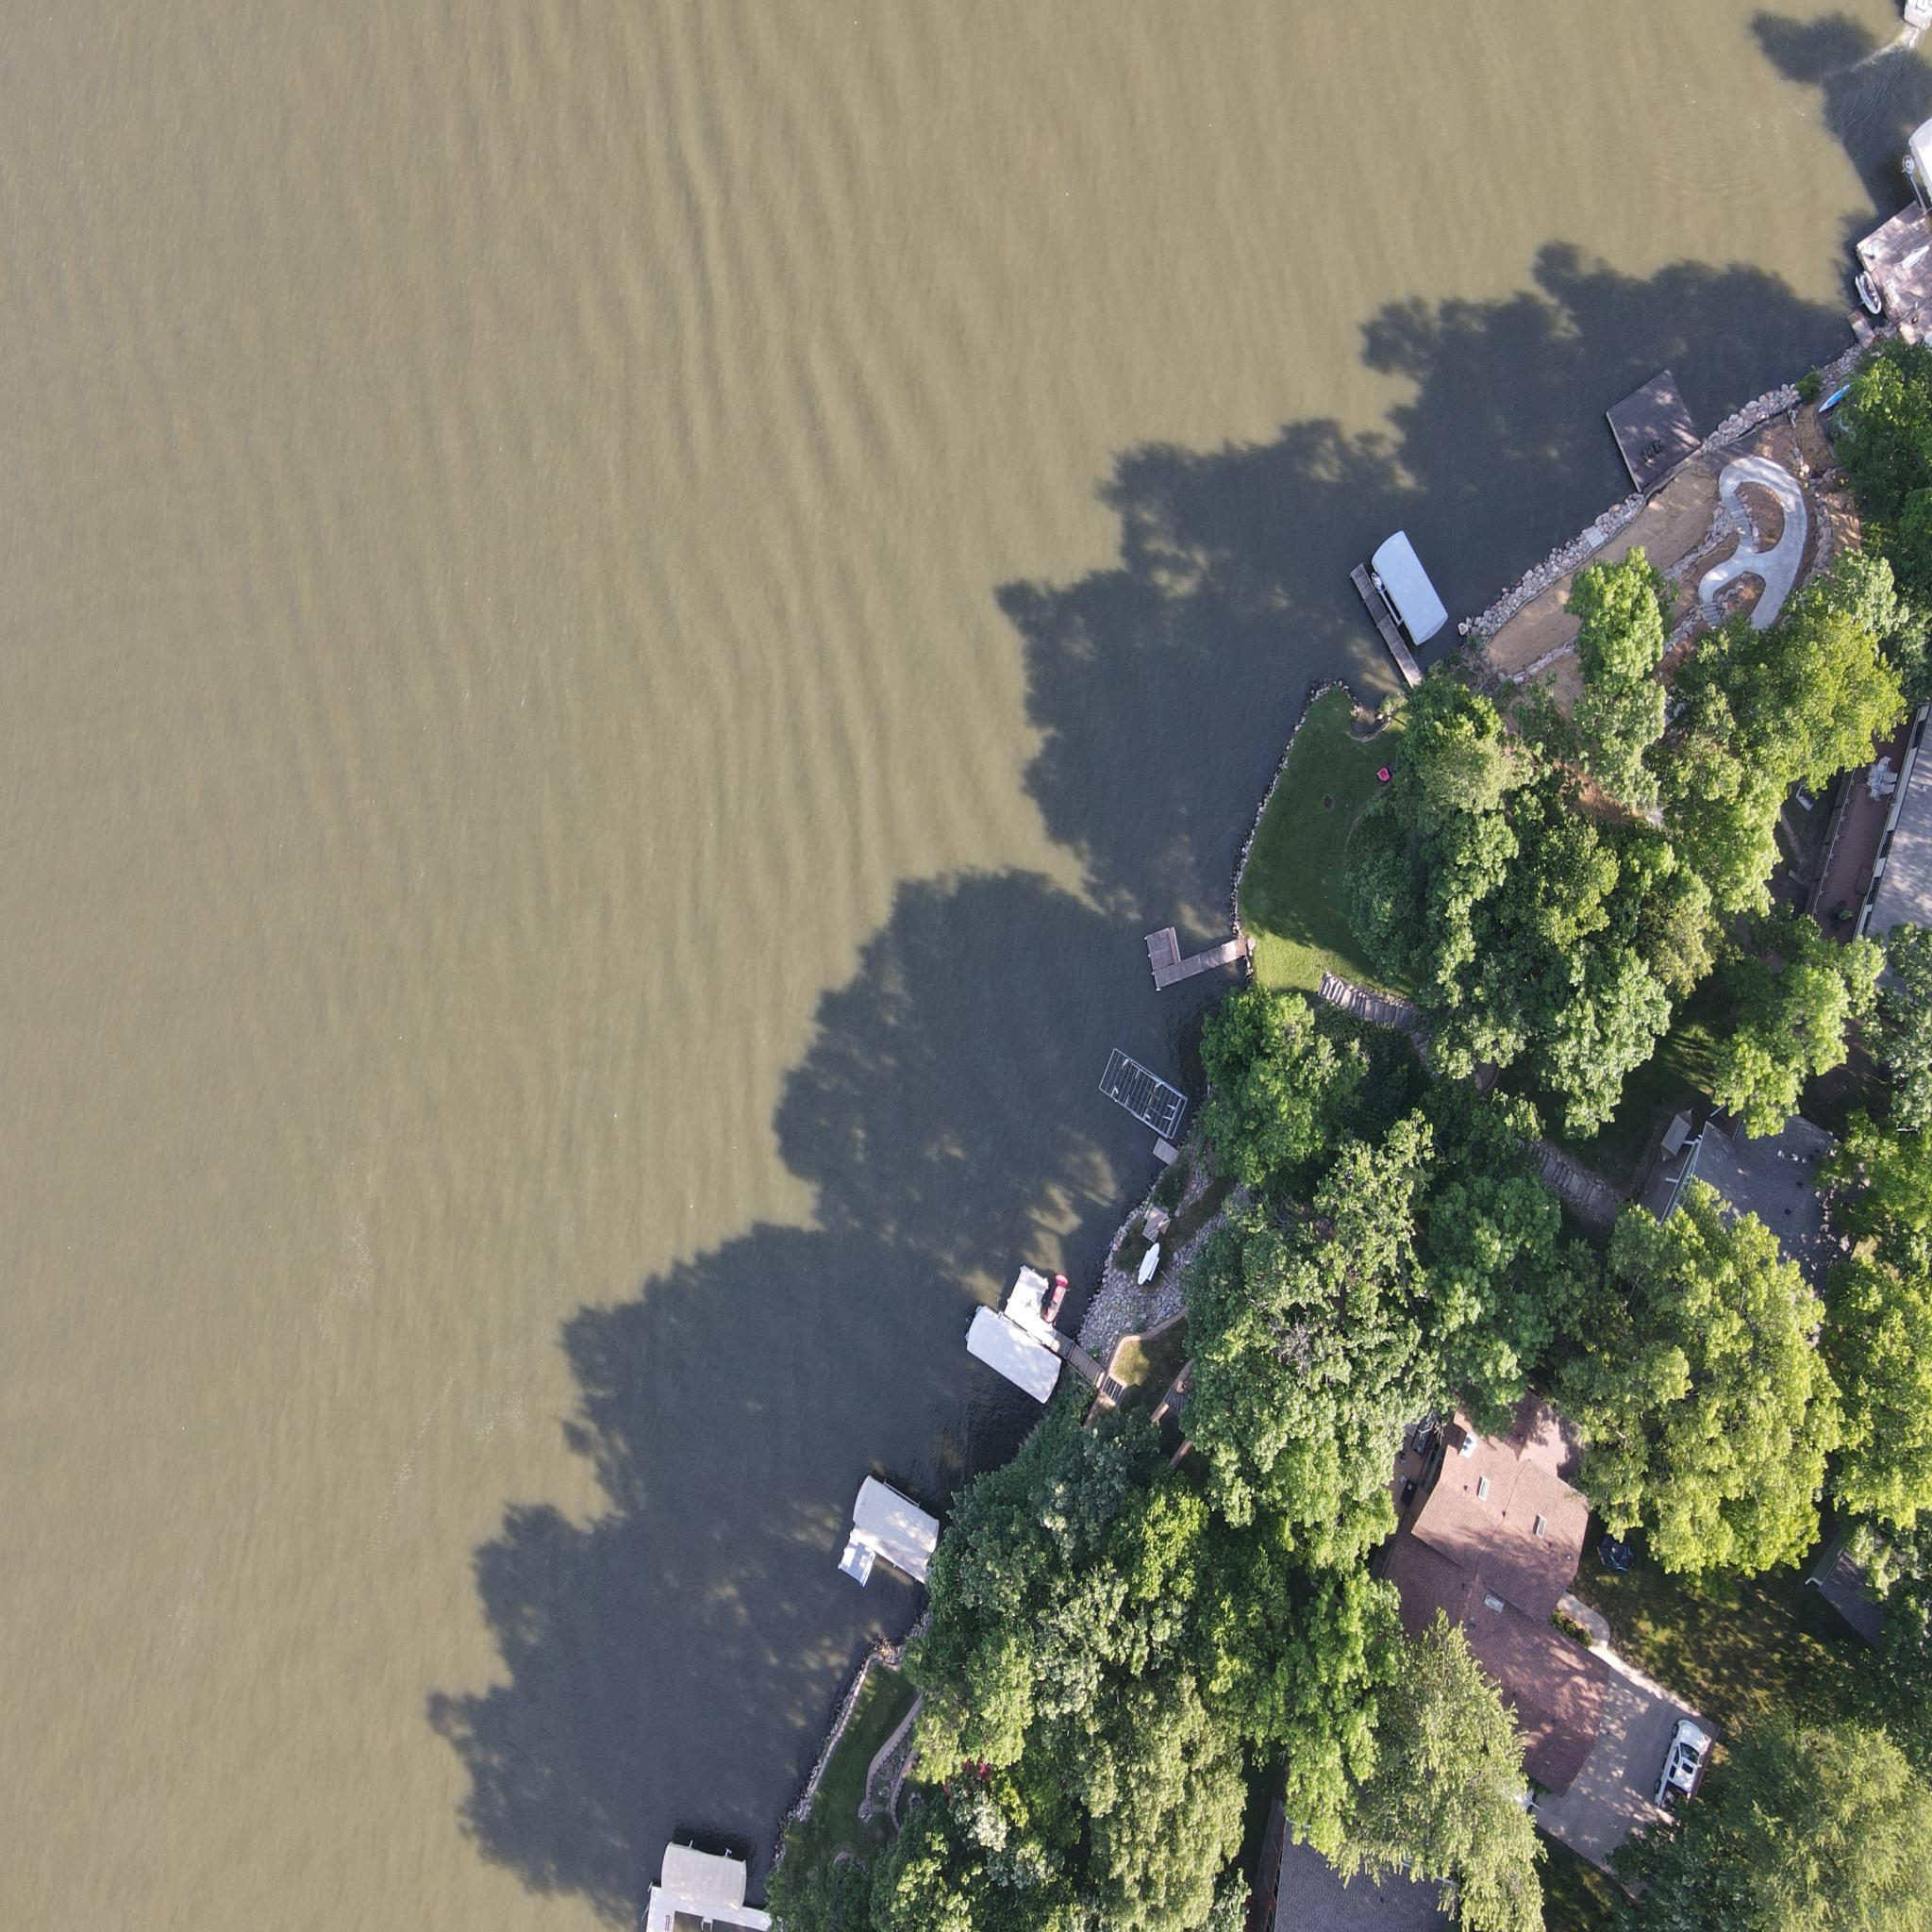car: (1661, 1707, 1714, 1828)
dock: (1350, 557, 1440, 722), (1610, 364, 1711, 508), (1131, 920, 1253, 998), (1005, 1246, 1074, 1380), (1856, 203, 1932, 318), (642, 1868, 777, 1932), (856, 1514, 934, 1594)
jetski: (1852, 267, 1884, 315), (1042, 1276, 1067, 1322)
lift: (966, 1309, 1060, 1430), (851, 1467, 957, 1553), (1099, 1042, 1189, 1136), (1371, 531, 1442, 648), (658, 1831, 750, 1911)
